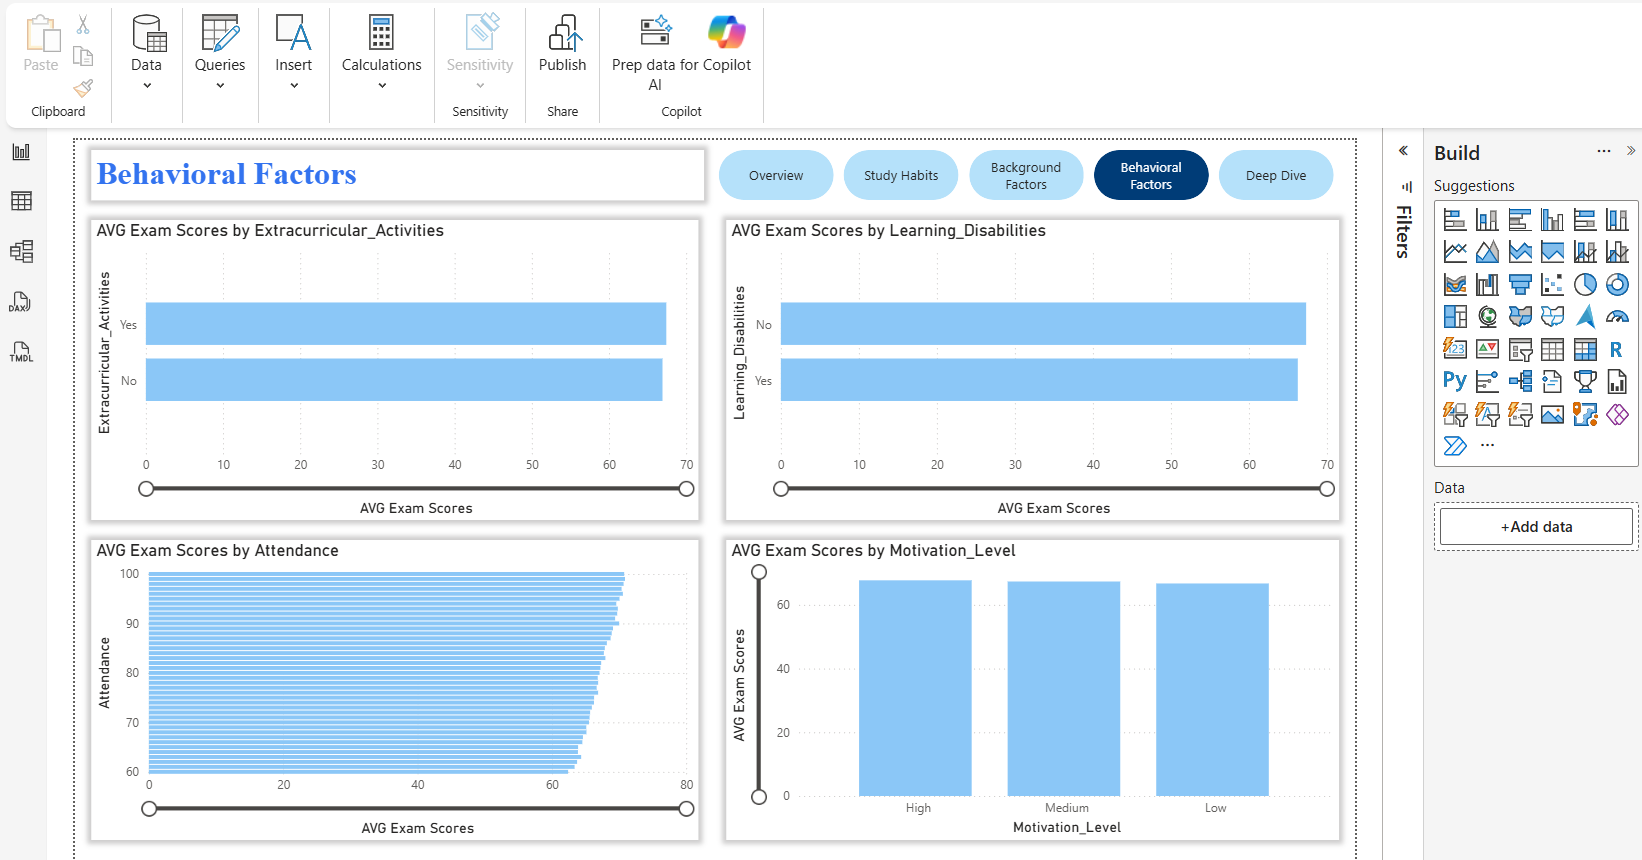

This screenshot's page, from the dashboard's own definition file:
{"tool":"powerbi","page":{"name":"Behavioral Factors","canvas":[1280,720],"ordinal":3},"visuals":[{"type":"pageNavigator","box":[643.3,10,617.1,50],"z":0},{"type":"clusteredBarChart","fields":{"Category":["DataSet.Learning_Disabilities"],"Y":["DataSet.AVG Exam Scores"]},"box":[650.9,80,612.9,300],"z":1000},{"type":"columnChart","fields":{"Category":["DataSet.Motivation_Level"],"Y":["DataSet.AVG Exam Scores"]},"box":[650.9,400,612.9,300],"z":2000},{"type":"clusteredBarChart","fields":{"Y":["DataSet.AVG Exam Scores"],"Category":["DataSet.Attendance"]},"box":[16.5,400,607.1,300],"z":3000},{"type":"clusteredBarChart","fields":{"Y":["DataSet.AVG Exam Scores"],"Category":["DataSet.Extracurricular_Activities"]},"box":[16.5,80,607.1,300],"z":4000},{"type":"textbox","box":[15.7,10,612.9,50],"z":5000}]}

Visuals, with their boxes on the page's 1280x720 design canvas (x1, y1, x2, y2). These are canvas units, not pixel positions in the 1642x860 screenshot, which may show the page scaled, cropped or inside an application window:
pageNavigator: crop(643, 10, 1260, 60)
clusteredBarChart - DataSet.Learning_Disabilities x DataSet.AVG Exam Scores: crop(651, 80, 1264, 380)
columnChart - DataSet.Motivation_Level x DataSet.AVG Exam Scores: crop(651, 400, 1264, 700)
clusteredBarChart - DataSet.AVG Exam Scores x DataSet.Attendance: crop(16, 400, 624, 700)
clusteredBarChart - DataSet.AVG Exam Scores x DataSet.Extracurricular_Activities: crop(16, 80, 624, 380)
textbox: crop(16, 10, 629, 60)
